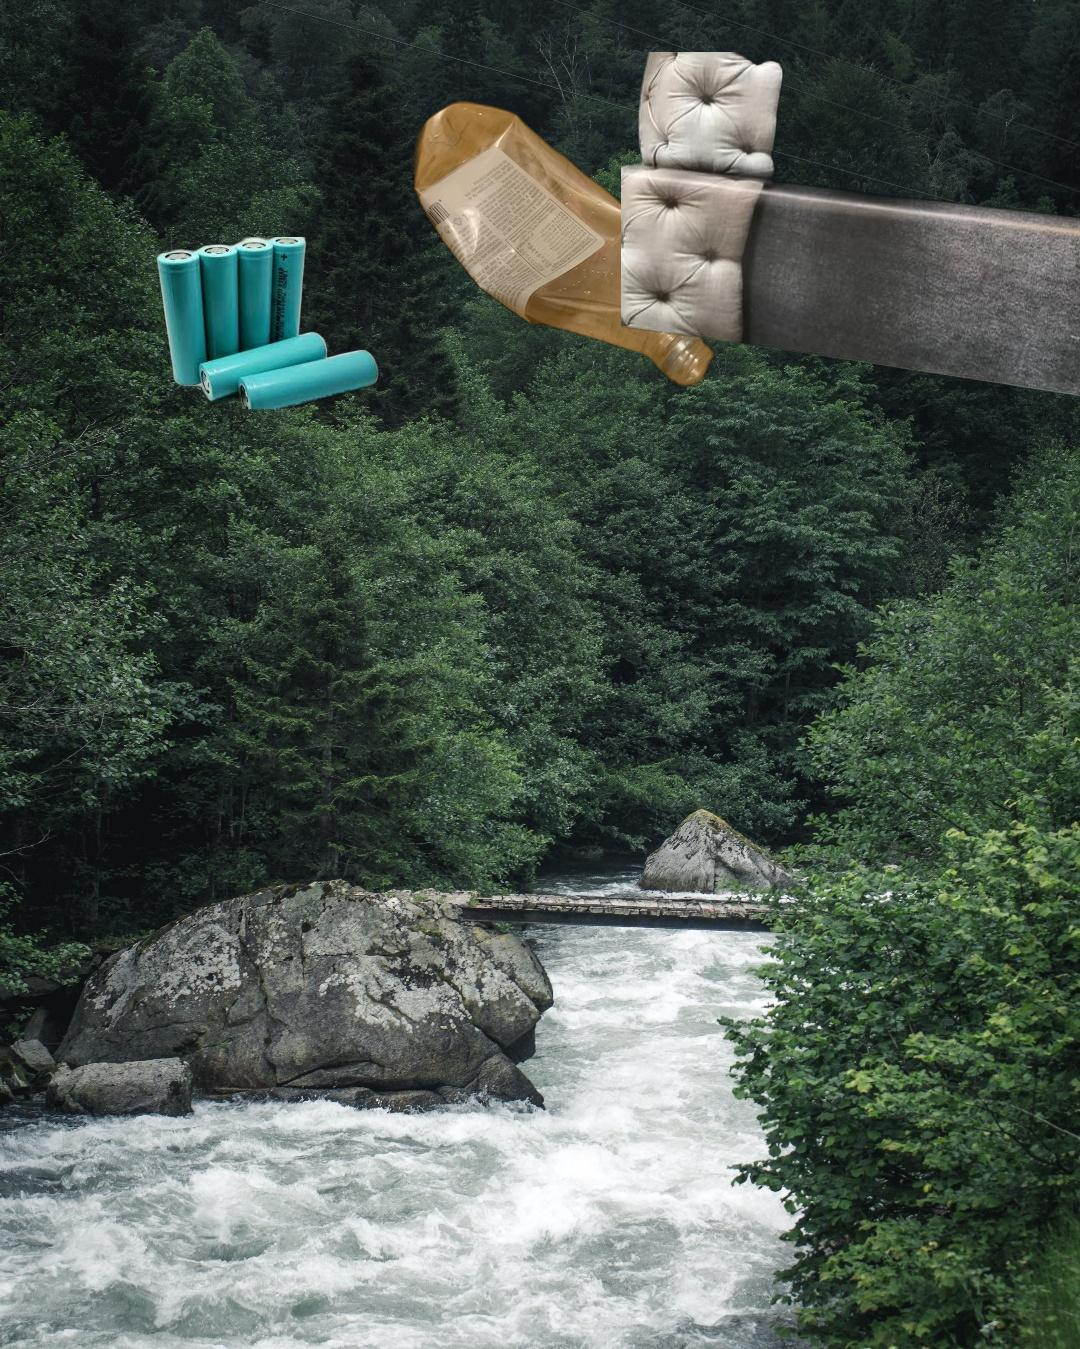battery: (153, 237, 399, 409)
paper: (622, 52, 1080, 403)
plastic-bottles: (410, 96, 717, 392)
